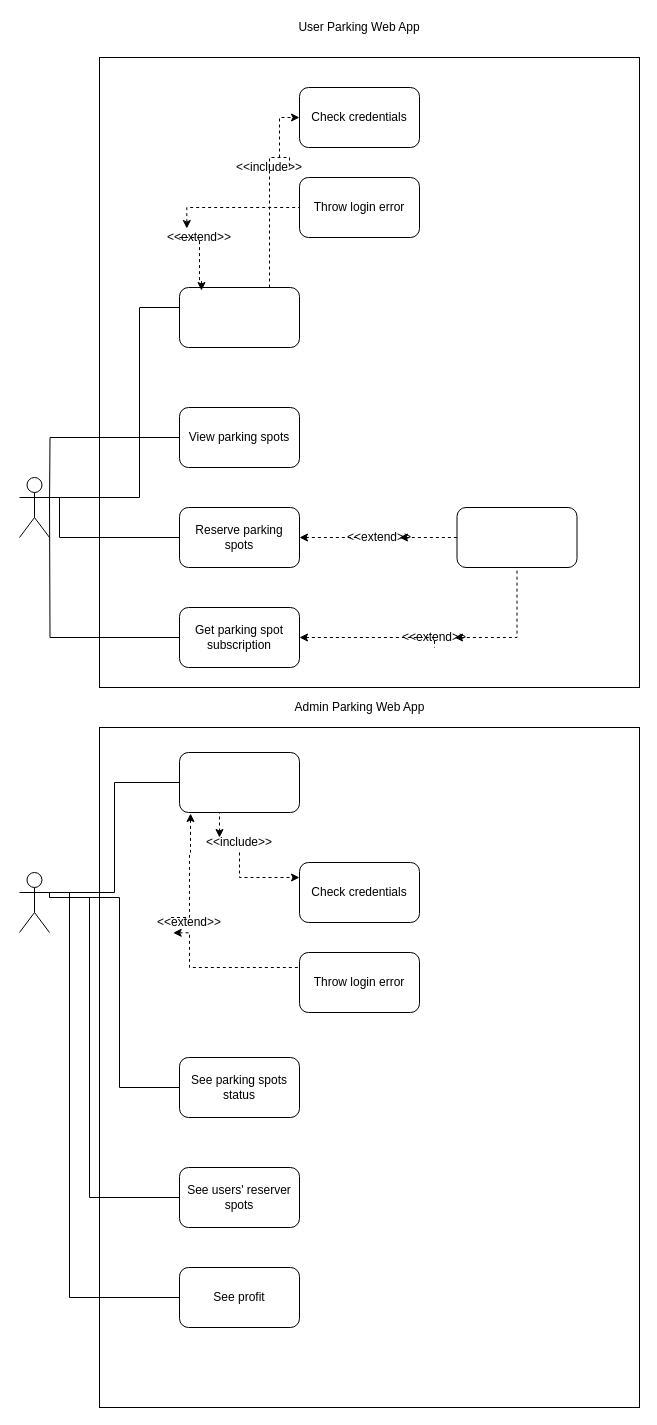
Some shapes in this 657 by 1425 pixel diagram are drawn without their labels. Here are the shapes that lost their labels. From the top down, the box of each, then its label:
(178, 286, 300, 348): User login
(18, 476, 50, 538): Client
(456, 506, 577, 568): Update personal info
(178, 752, 300, 812): Admin login
(18, 872, 50, 932): Admin
